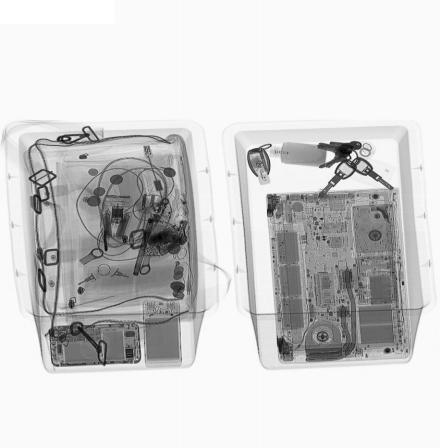Powerbank: (144, 299, 184, 369)
